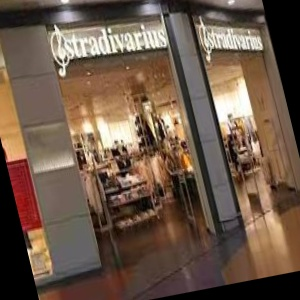stradivarius: (41, 0, 270, 74), (121, 0, 195, 21)
